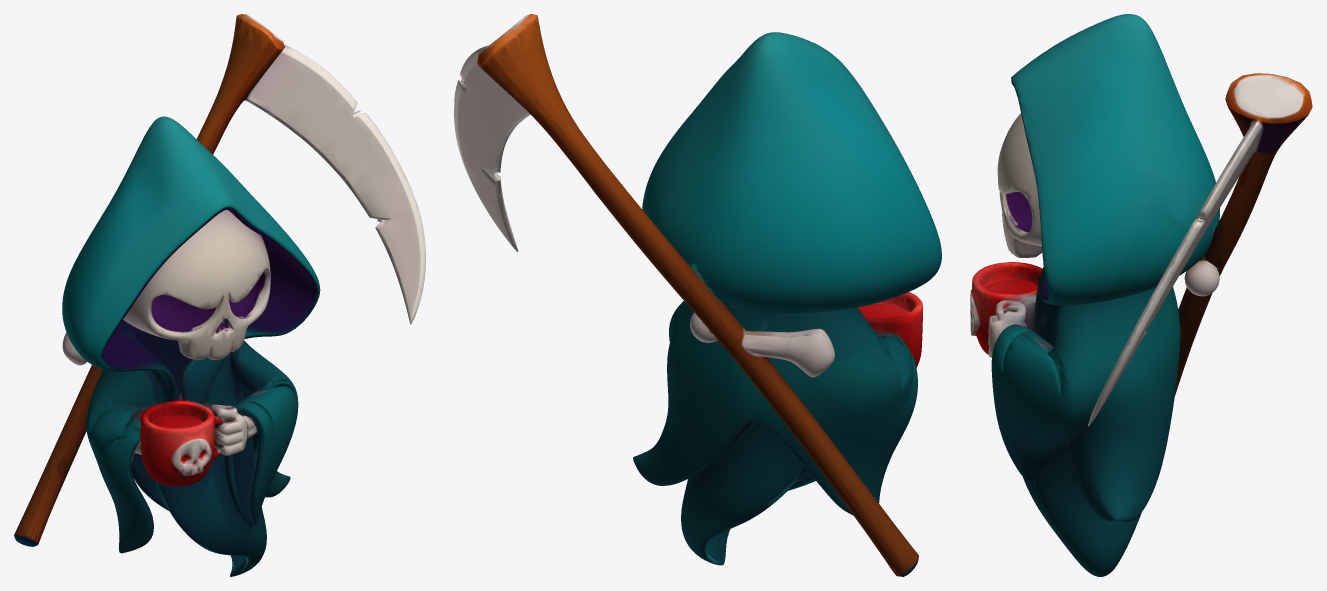
File: pixellabs-grim-reaper-3d-3011.glb
3 renders of one model, left to right at view 1: azimuth 30°, elevation 25°; view 2: azimuth 150°, elevation 25°; view 3: azimuth 270°, elevation 25°, orthographic. The views are drawn at different scales.
Visible parts, largest first — view 1: material; view 2: material; view 3: material.
Part boxes in pixels (<box>): material: <box>14,14,425,576</box>; material: <box>454,14,941,576</box>; material: <box>970,14,1312,576</box>.
Size of the model in its own units: 0.8709 by 1.02 by 0.5761.
1 material, 1 textured.
